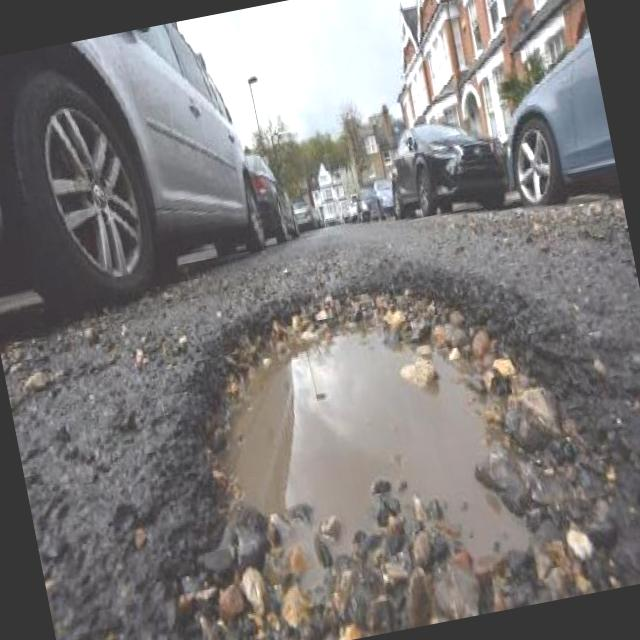pothole: (105, 230, 624, 640)
